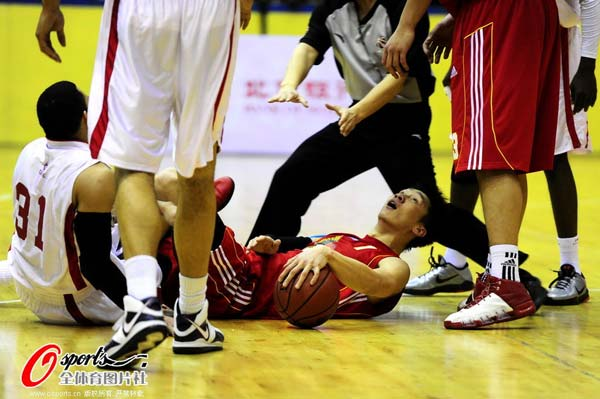fall: (14, 53, 264, 350)
